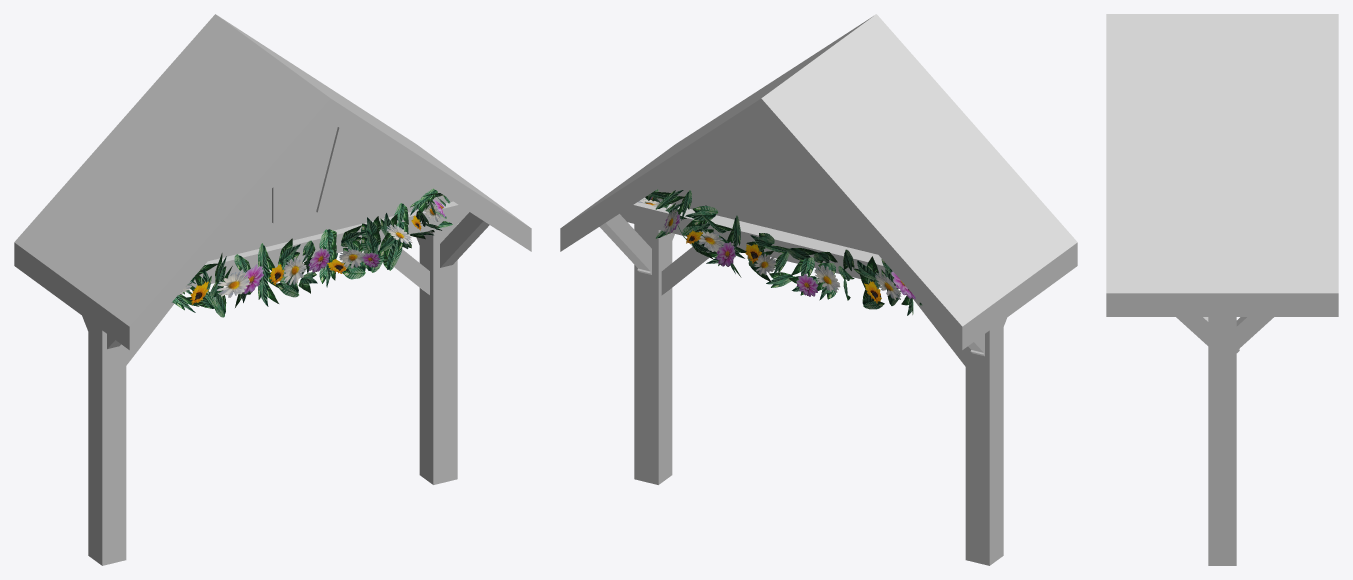
File: Gates.fbx
3 renders of one model, left to right at view 1: azimuth 30°, elevation 25°; view 2: azimuth 150°, elevation 25°; view 3: azimuth 270°, elevation 25°, orthographic.
Parts seen in each view (by area): view 1: Plane.050, Plane.082; view 2: Plane.050, Plane.082; view 3: Plane.050.
Part boxes in pixels (bbox=[...]): Plane.050: bbox=[14, 14, 531, 565]; Plane.082: bbox=[172, 188, 452, 317]; Plane.050: bbox=[560, 14, 1077, 565]; Plane.082: bbox=[637, 189, 922, 315]; Plane.050: bbox=[1106, 14, 1338, 565].
Size of the model in its own units: 587 by 644 by 292.
Materials: 5 (4 with a texture image).
